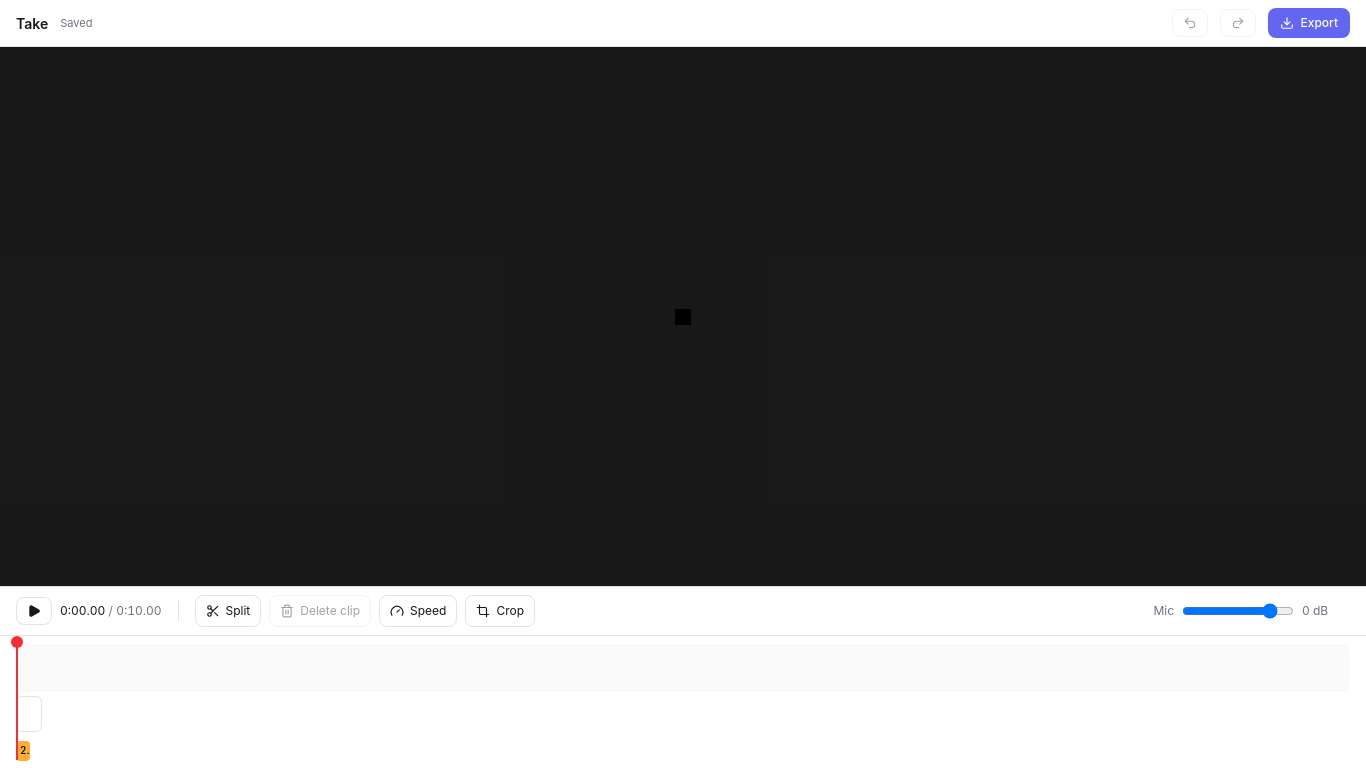
Test: RecordEditor › two quick edits: the second builds on the first while Rust still answers
Press s
Wait 1 ms
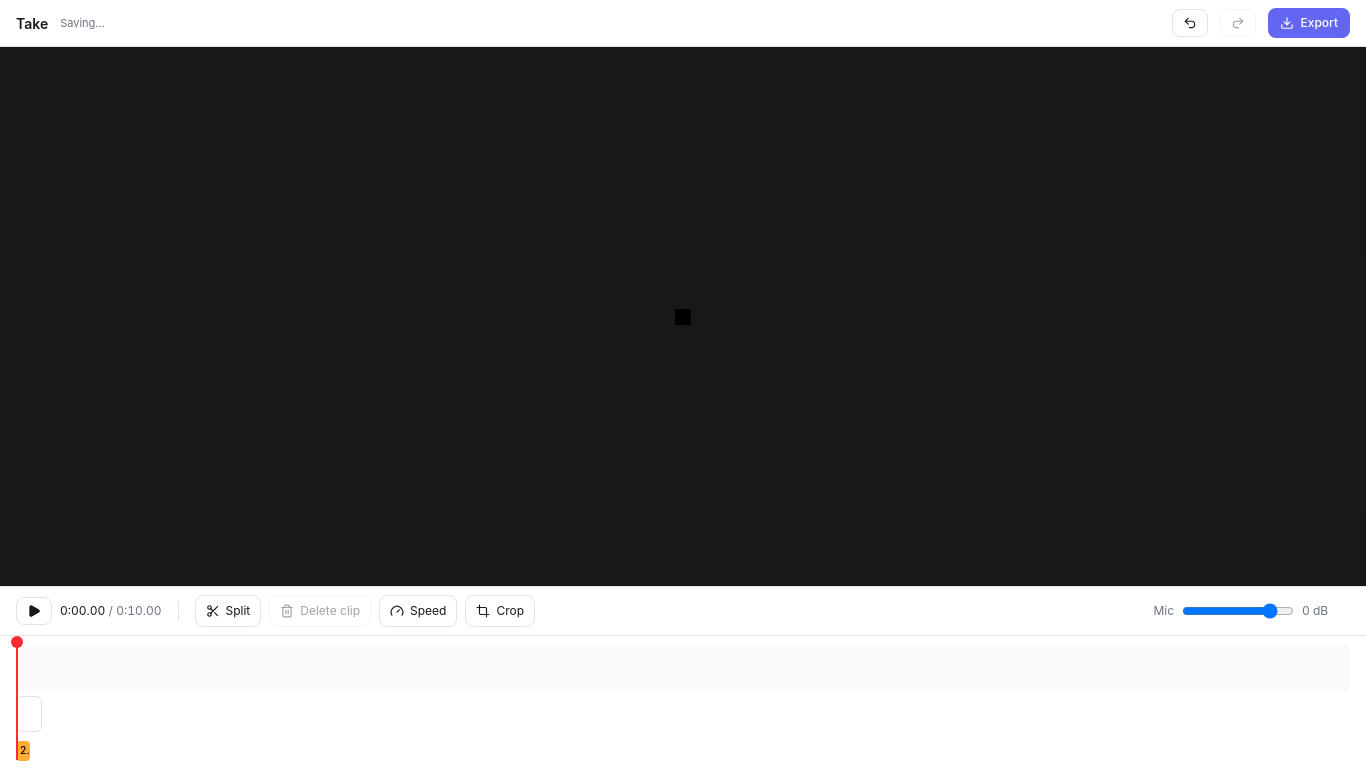
Press the mouse on the button with test id "ed-speed" at (23, 750), box x1=16 y1=740 x2=30 y2=760
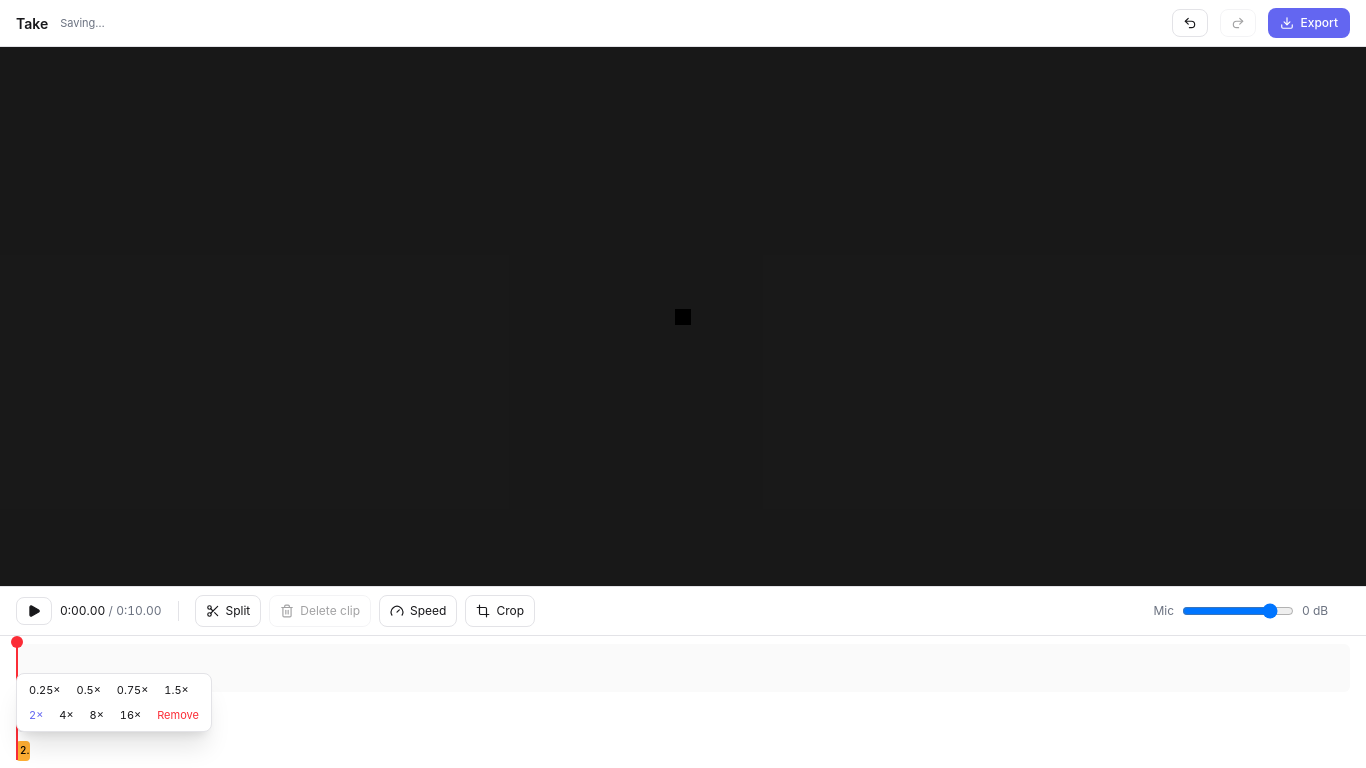
Click the button "4×" at (66, 715), box x1=53 y1=704 x2=80 y2=725
Wait 6 ms
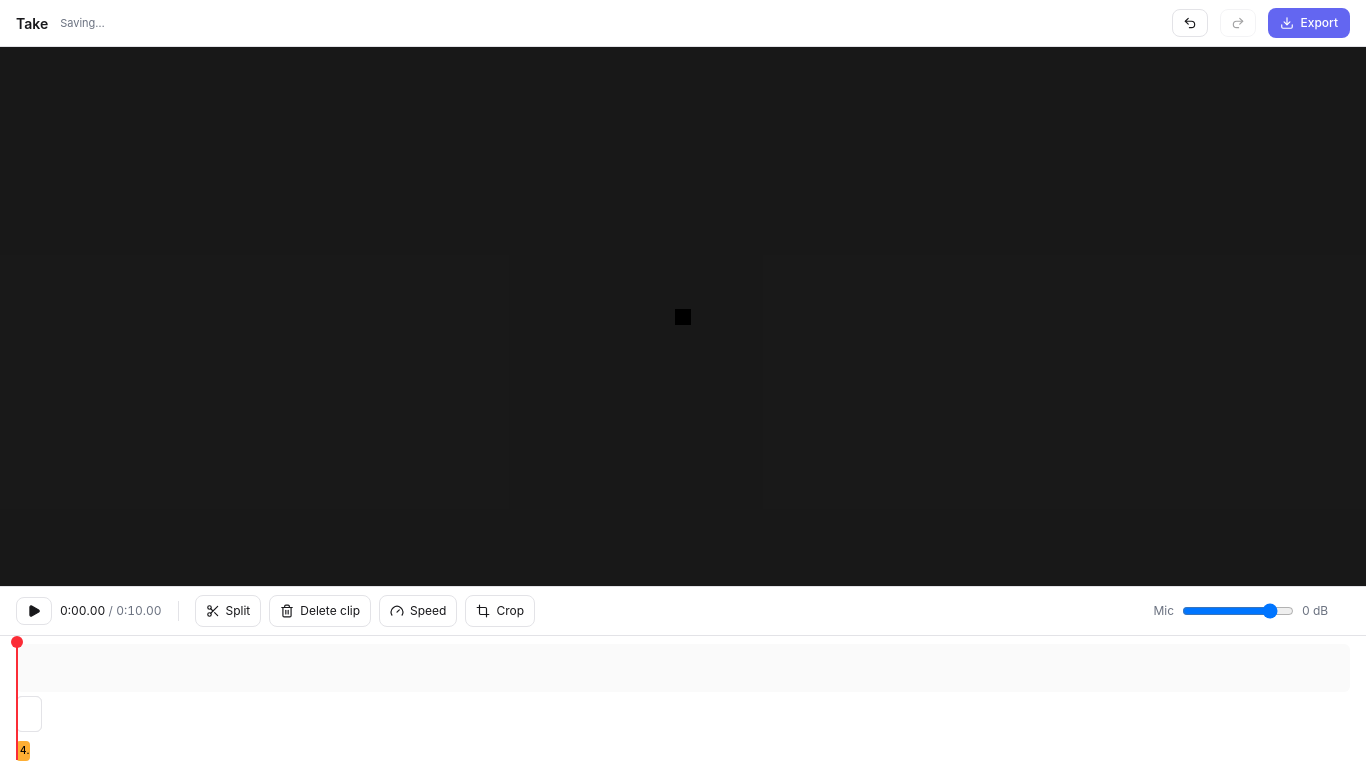
Check: the number of elements with test id "ed-clip" is 2, box x1=16 y1=696 x2=42 y2=732; x1=16 y1=696 x2=42 y2=732
